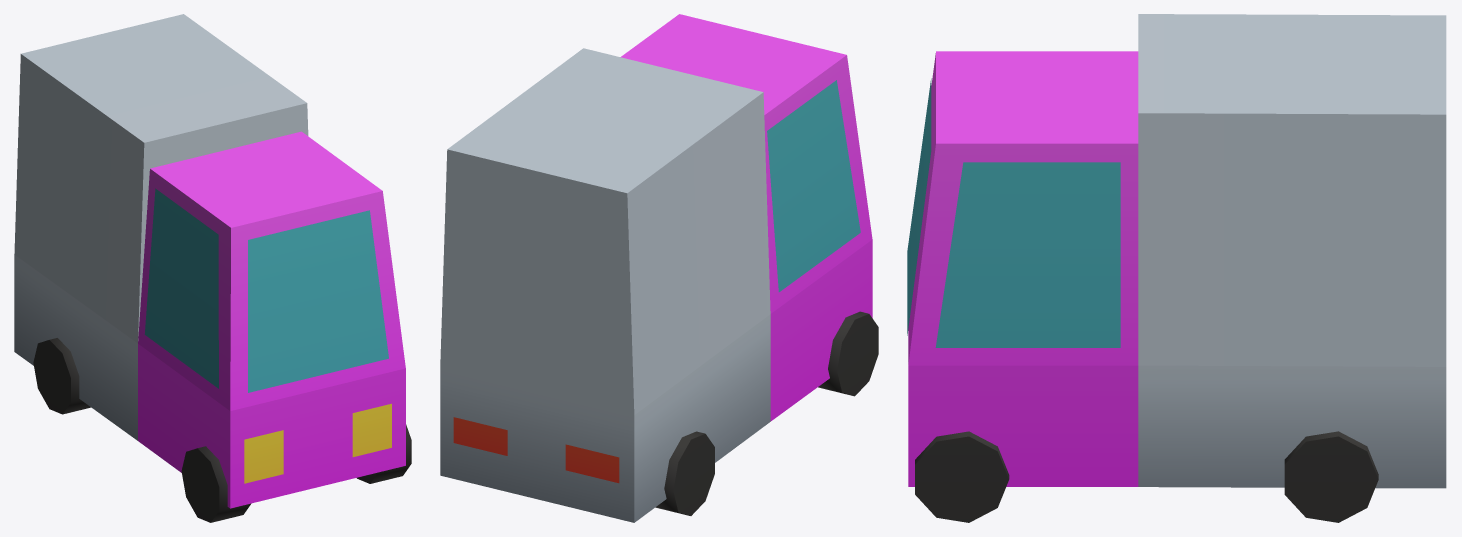
The model's file is Car_6_2.fbx.
The picture shows the model from 3 angles, left to right: view 1: azimuth 30°, elevation 25°; view 2: azimuth 150°, elevation 25°; view 3: azimuth 270°, elevation 25°; orthographic projection. The views are drawn at different scales.
Visible parts, largest first — view 1: Car_6_2; view 2: Car_6_2; view 3: Car_6_2.
Boxes of the visible parts, x1,y1,x2,y2 form: Car_6_2: [14, 14, 411, 522]; Car_6_2: [440, 14, 878, 522]; Car_6_2: [907, 14, 1446, 522].
Bounding box in the file's own units: 211 × 337 × 412.
